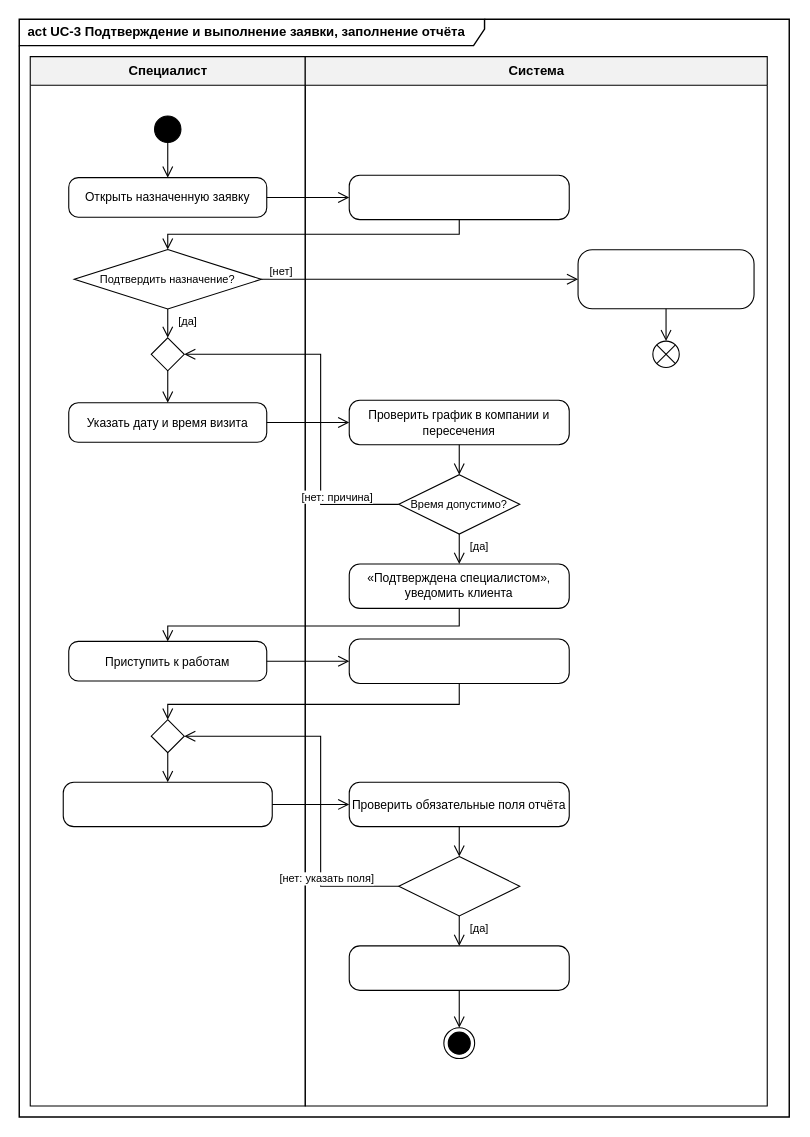
Image size: 810x1137. Some labels were removed from this diagram. Each missing label, with the centre of its shape:
«В работе», запись в историю, уведомить клиента: the point at 458,660
«Завершена», сохранить отчёт, уведомить клиента: the point at 458,967
Вернуть в «Принята компанией», уведомить диспетчера: the point at 665,279
Заполнить отчёт: работы и материалы, «Завершить»: the point at 167,804
Отчёт заполнен?: the point at 459,885
Показать описание, адрес и контакты клиента: the point at 458,197
